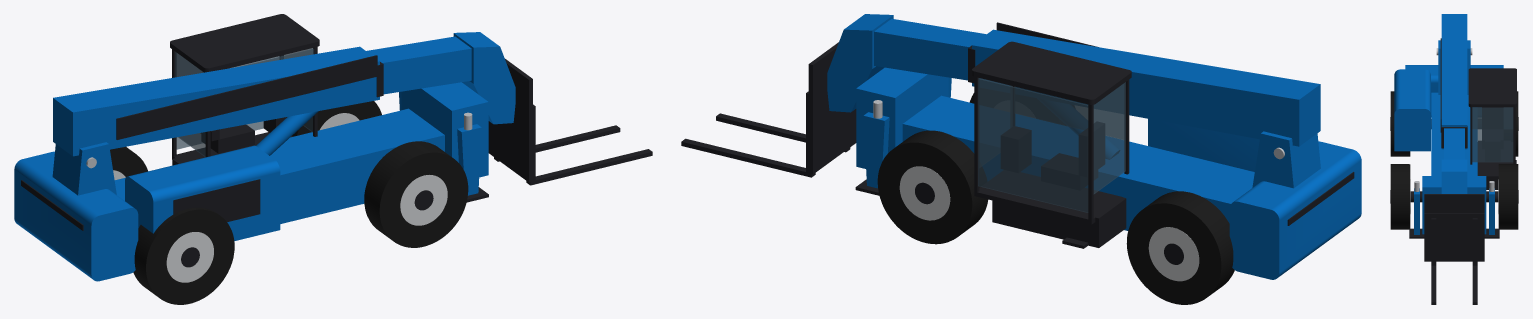
File: Telehandler_10000lb_56ft.glb
3 views of the same model, side by side, from view 1: azimuth 30°, elevation 25°; view 2: azimuth 150°, elevation 25°; view 3: azimuth 270°, elevation 25° (orthographic). The views are drawn at different scales.
Visible parts, largest first — view 1: lift_cylinder_barrel_eb01b6, fork_tine_-1_c3f97c, front_tyre_-1_b50b61, front_rim_-1_c141c0, cab_glass_inner_4dc6f3; view 2: lift_cylinder_barrel_eb01b6, fork_tine_-1_c3f97c, cab_glass_inner_4dc6f3, front_tyre_-1_b50b61, front_rim_-1_c141c0; view 3: lift_cylinder_barrel_eb01b6, fork_tine_-1_c3f97c, front_tyre_-1_b50b61, cab_glass_inner_4dc6f3, tilt_cylinder_3d61b3.
Boxes of the visible parts, box(x1,y1,x2,y2) form: lift_cylinder_barrel_eb01b6: box(14, 32, 515, 281); fork_tine_-1_c3f97c: box(21, 14, 652, 267); front_tyre_-1_b50b61: box(110, 101, 468, 304); front_rim_-1_c141c0: box(113, 113, 447, 282); cab_glass_inner_4dc6f3: box(175, 48, 314, 157); lift_cylinder_barrel_eb01b6: box(827, 14, 1361, 279); fork_tine_-1_c3f97c: box(681, 22, 1354, 264); cab_glass_inner_4dc6f3: box(978, 78, 1125, 212); front_tyre_-1_b50b61: box(877, 93, 1234, 304); front_rim_-1_c141c0: box(899, 166, 1199, 281); lift_cylinder_barrel_eb01b6: box(1394, 14, 1503, 234); fork_tine_-1_c3f97c: box(1390, 38, 1518, 304); front_tyre_-1_b50b61: box(1390, 91, 1518, 229); cab_glass_inner_4dc6f3: box(1472, 107, 1513, 162); tilt_cylinder_3d61b3: box(1414, 48, 1494, 191).
Size of the model in its own units: 174 by 51.78 by 52.
